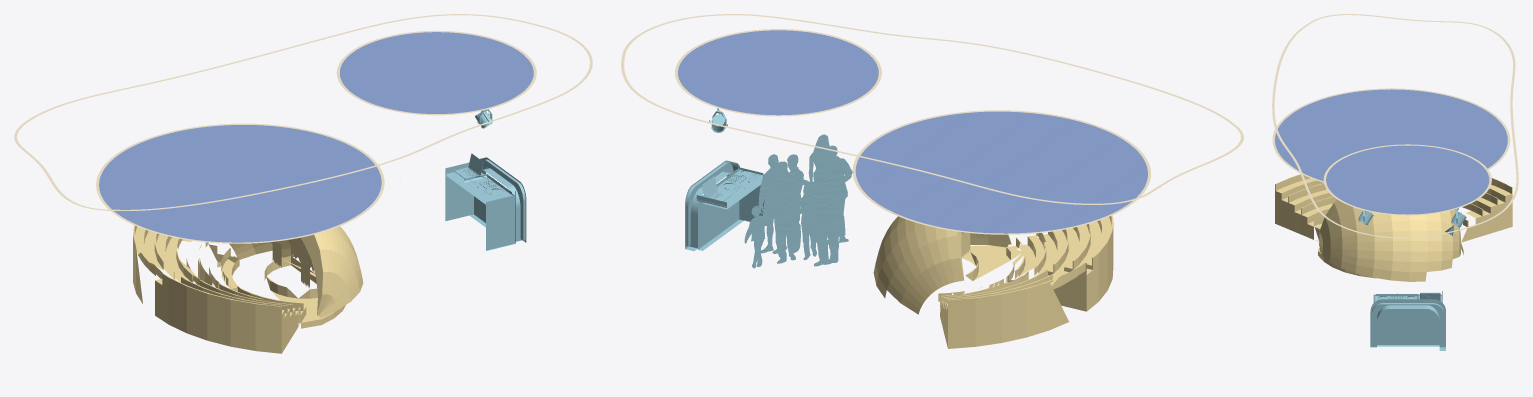
Rendered from performance_model.glb.
3 views of the same model, side by side, from view 1: azimuth 30°, elevation 25°; view 2: azimuth 150°, elevation 25°; view 3: azimuth 270°, elevation 25° (orthographic). The views are drawn at different scales.
Visible parts, largest first — view 1: roof, Layer 01, Layer0, Performance space; view 2: roof, Layer 01, Layer0, Performance space; view 3: roof, Layer 01, Layer0, Performance space.
Part boxes in pixels (x1,y1,x2,y2): roof: (99,32,533,242); Layer 01: (133,225,363,353); Layer0: (438,109,526,250); Performance space: (14,14,592,243); roof: (678,30,1147,233); Layer 01: (873,215,1113,348); Layer0: (685,108,852,268); Performance space: (621,14,1243,234); roof: (1275,89,1507,214); Layer 01: (1275,174,1512,281); Layer0: (1358,208,1466,350); Performance space: (1272,14,1518,238).
Size of the model in its own units: 10.7 by 3.25 by 4.97.
